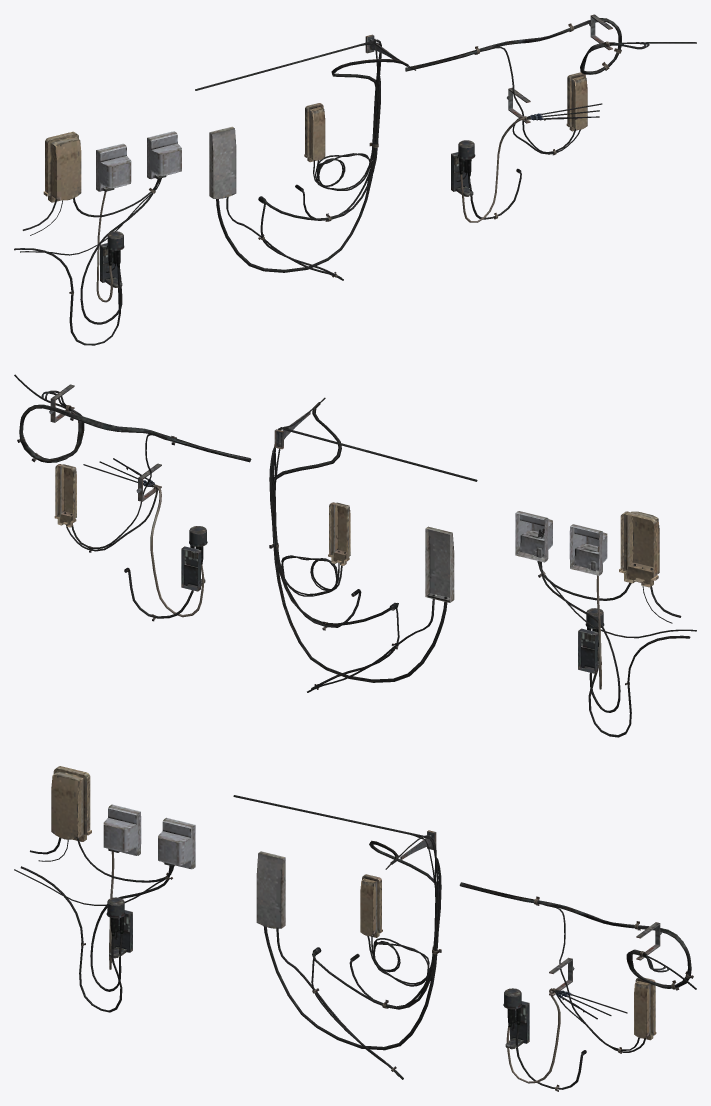
File: sm20_014_electricalwiring01a.fbx
3 views of the same model, one above another, from view 1: azimuth 30°, elevation 25°; view 2: azimuth 150°, elevation 25°; view 3: azimuth 330°, elevation 25° (orthographic). The views are drawn at different scales.
Parts seen in each view (by area): view 1: LOD_1_Group_0_Sub_1__sm20_014_electricalWiring01A_A_Mat, LOD_1_Group_2_Sub_1__sm20_014_electricalWiring01A_A_Mat, LOD_1_Group_1_Sub_1__sm20_014_electricalWiring01A_A_Mat; view 2: LOD_1_Group_0_Sub_1__sm20_014_electricalWiring01A_A_Mat, LOD_1_Group_2_Sub_1__sm20_014_electricalWiring01A_A_Mat, LOD_1_Group_1_Sub_1__sm20_014_electricalWiring01A_A_Mat; view 3: LOD_1_Group_0_Sub_1__sm20_014_electricalWiring01A_A_Mat, LOD_1_Group_2_Sub_1__sm20_014_electricalWiring01A_A_Mat, LOD_1_Group_1_Sub_1__sm20_014_electricalWiring01A_A_Mat.
Boxes of the visible parts, left/top/right/bottom form: LOD_1_Group_0_Sub_1__sm20_014_electricalWiring01A_A_Mat: left=14, top=131, right=181, bottom=345; LOD_1_Group_2_Sub_1__sm20_014_electricalWiring01A_A_Mat: left=195, top=34, right=415, bottom=280; LOD_1_Group_1_Sub_1__sm20_014_electricalWiring01A_A_Mat: left=405, top=14, right=696, bottom=222; LOD_1_Group_0_Sub_1__sm20_014_electricalWiring01A_A_Mat: left=515, top=511, right=696, bottom=737; LOD_1_Group_2_Sub_1__sm20_014_electricalWiring01A_A_Mat: left=269, top=397, right=477, bottom=692; LOD_1_Group_1_Sub_1__sm20_014_electricalWiring01A_A_Mat: left=14, top=374, right=251, bottom=621; LOD_1_Group_0_Sub_1__sm20_014_electricalWiring01A_A_Mat: left=14, top=766, right=195, bottom=1012; LOD_1_Group_2_Sub_1__sm20_014_electricalWiring01A_A_Mat: left=233, top=795, right=441, bottom=1079; LOD_1_Group_1_Sub_1__sm20_014_electricalWiring01A_A_Mat: left=459, top=882, right=696, bottom=1091.
Size of the model in its own units: 1.91 by 0.6617 by 0.2342.
